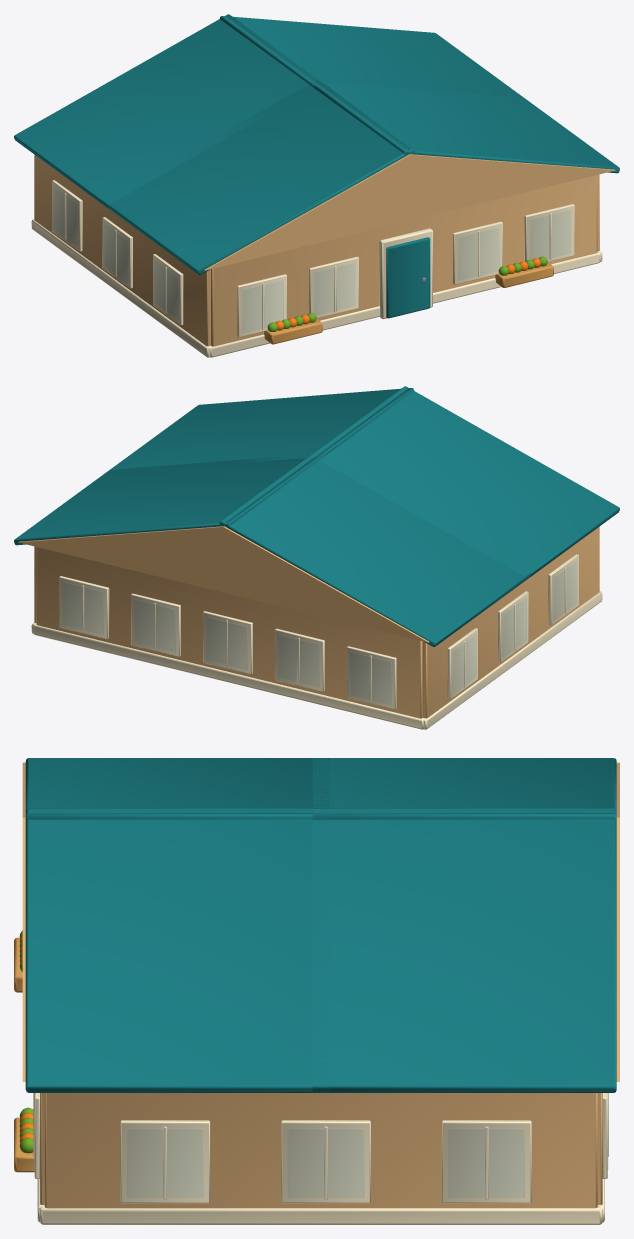
The model's file is project_0.glb.
3 views of the same model, one above another, from view 1: azimuth 30°, elevation 25°; view 2: azimuth 150°, elevation 25°; view 3: azimuth 270°, elevation 25° (orthographic). The views are drawn at different scales.
Parts seen in each view (by area): view 1: roof half.002, roof half, wall.001, painted gable.001, foundation trim.001, wall.002, foundation trim.002, blue window.005, door.001, blue window.010, door frame, planter (+1 smaller); view 2: roof half, roof half.002, wall, foundation trim, painted gable, blue window, wall.002, foundation trim.002, blue window.010; view 3: roof half, roof half.002, wall.003, foundation trim.003, blue window.013, painted gable, painted gable.001, foundation trim, foundation trim.001, wall, planter.001.
Boxes of the visible parts, x1,y1,x2,y2 form: roof half.002: (103, 79, 619, 274); roof half: (14, 14, 523, 208); wall.001: (211, 175, 597, 346); painted gable.001: (204, 154, 615, 270); foundation trim.001: (210, 204, 600, 357); wall.002: (34, 154, 210, 346); foundation trim.002: (31, 180, 210, 357); blue window.005: (243, 210, 570, 332); door.001: (386, 237, 430, 318); blue window.010: (54, 187, 177, 319); door frame: (379, 228, 432, 319); planter: (264, 319, 322, 344); roof half: (14, 451, 530, 646); roof half.002: (110, 386, 619, 580); wall: (36, 547, 422, 718); foundation trim: (33, 576, 423, 729); painted gable: (18, 526, 429, 642); blue window: (63, 582, 390, 704); wall.002: (423, 526, 599, 718); foundation trim.002: (423, 554, 602, 729); blue window.010: (453, 561, 576, 693); roof half: (312, 758, 616, 1092); roof half.002: (25, 758, 329, 1092); wall.003: (44, 1093, 597, 1208); foundation trim.003: (40, 1120, 602, 1224); blue window.013: (127, 1129, 524, 1196); painted gable: (616, 762, 619, 1081); painted gable.001: (22, 762, 25, 1081); foundation trim: (597, 1093, 608, 1222); foundation trim.001: (33, 1093, 44, 1222); wall: (597, 1093, 602, 1204); planter.001: (14, 1117, 34, 1172).
Size of the model in its own units: 16.44 by 6.14 by 12.82.
